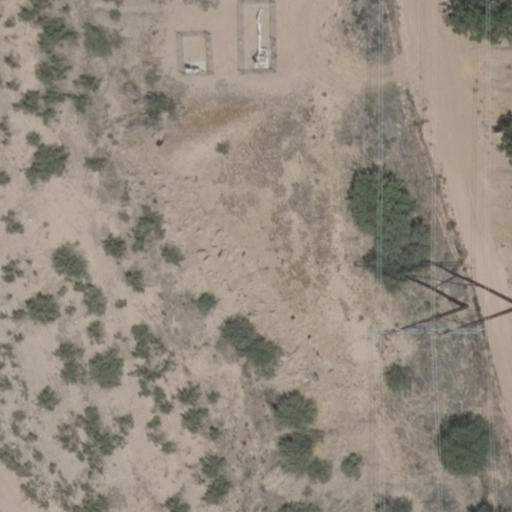TT: (395, 267, 512, 317)
